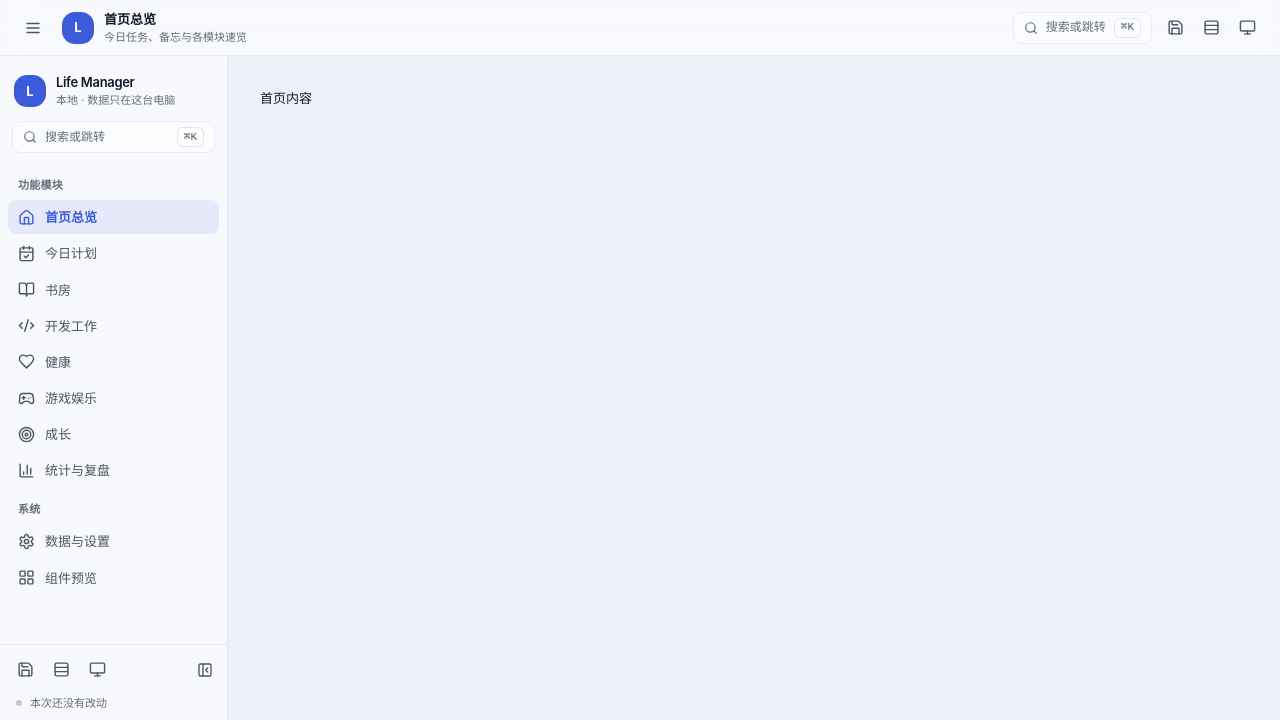
Test case: Layout › 命令面板搜「饮食」落饮食页，不落同一个宿主的默认子页健身
Press k
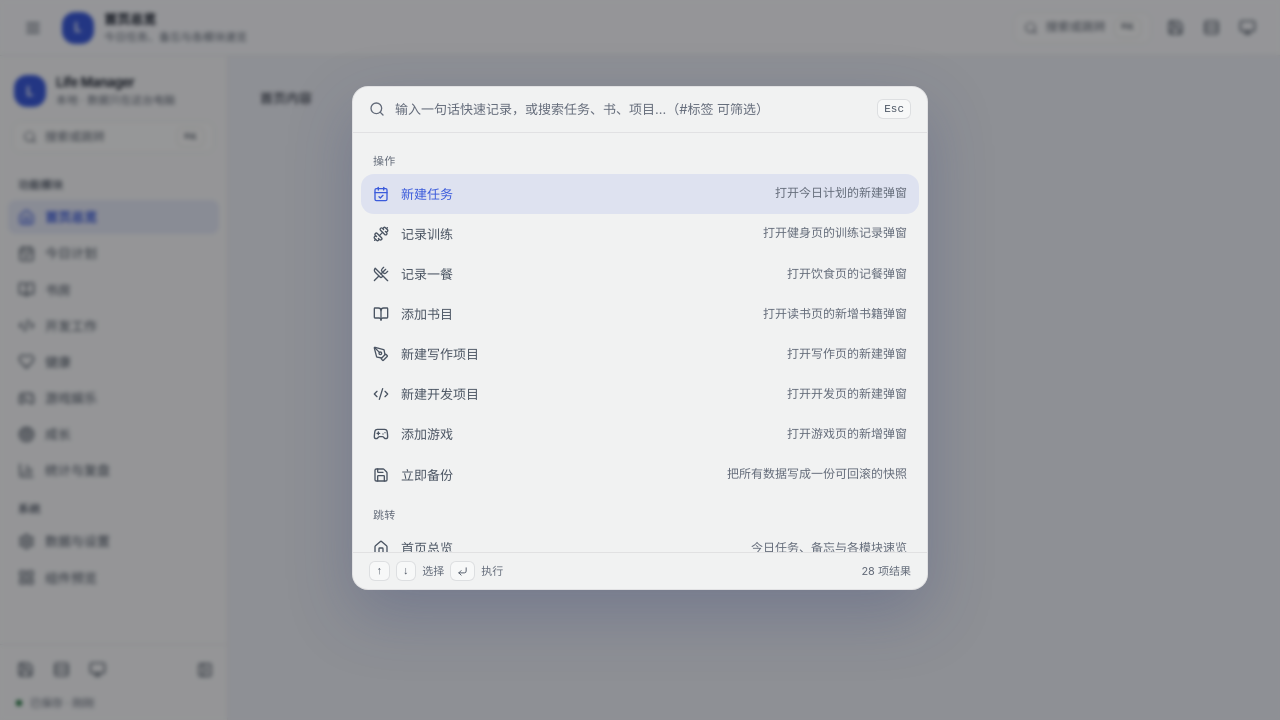
Type "饮食" into the dropdown at (631,109), box [395,99,867,120]
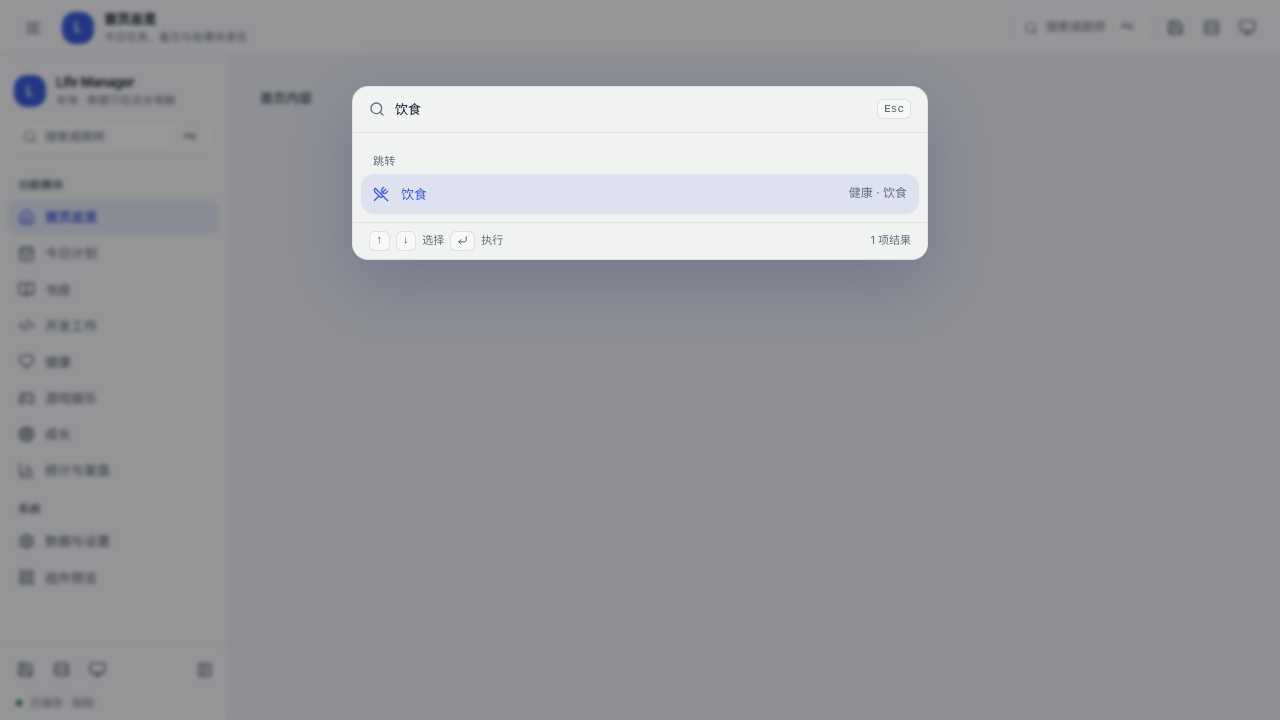
Expected: the option shows "健康 · 饮食", [361,174,919,214]
Press Enter
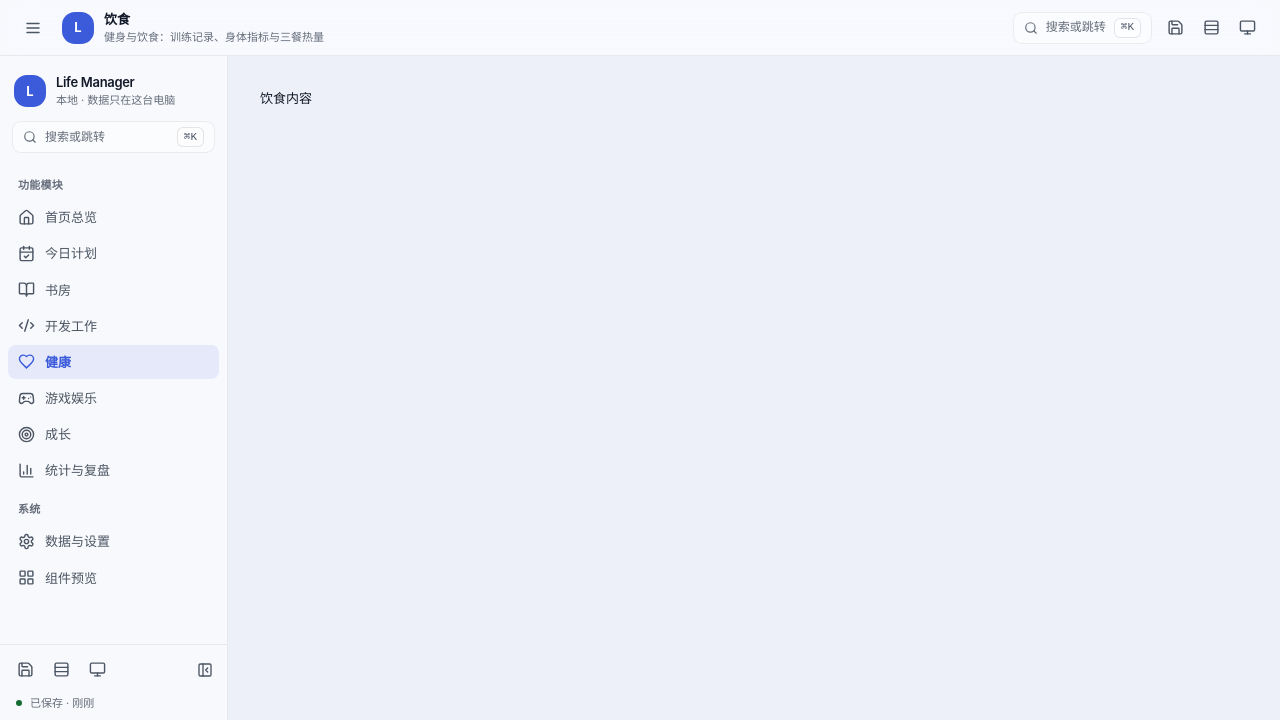
Expected: the text "饮食内容" is shown, [260,90,312,106]
